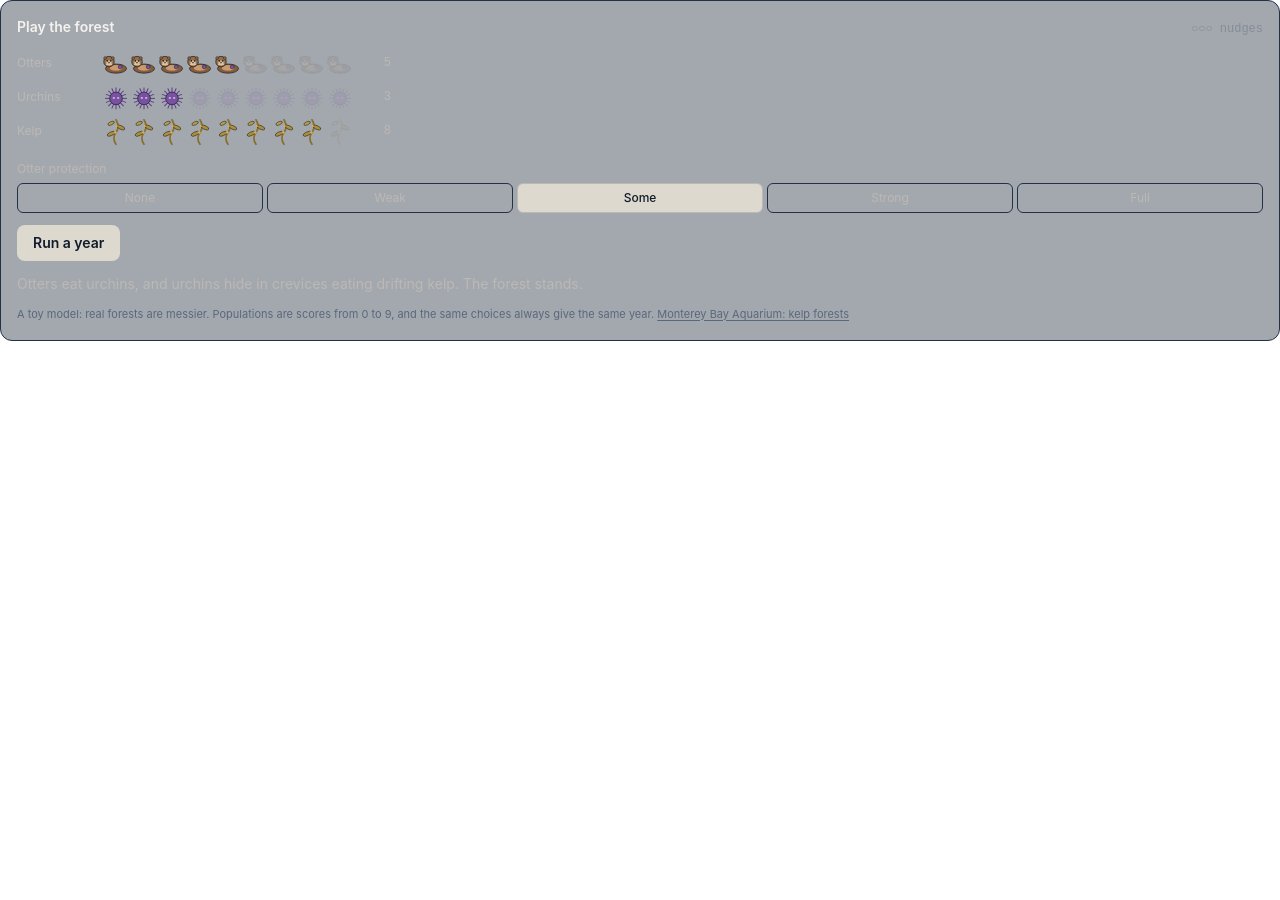
KelpPlay › says how to earn a nudge when there are none, and still runs an unchanged year
What coordinates should you click on to do the following:
click the radio button labelled "Full"
I would click on:
 (1140, 198)
Its box is left=1017, top=183, right=1263, bottom=213.
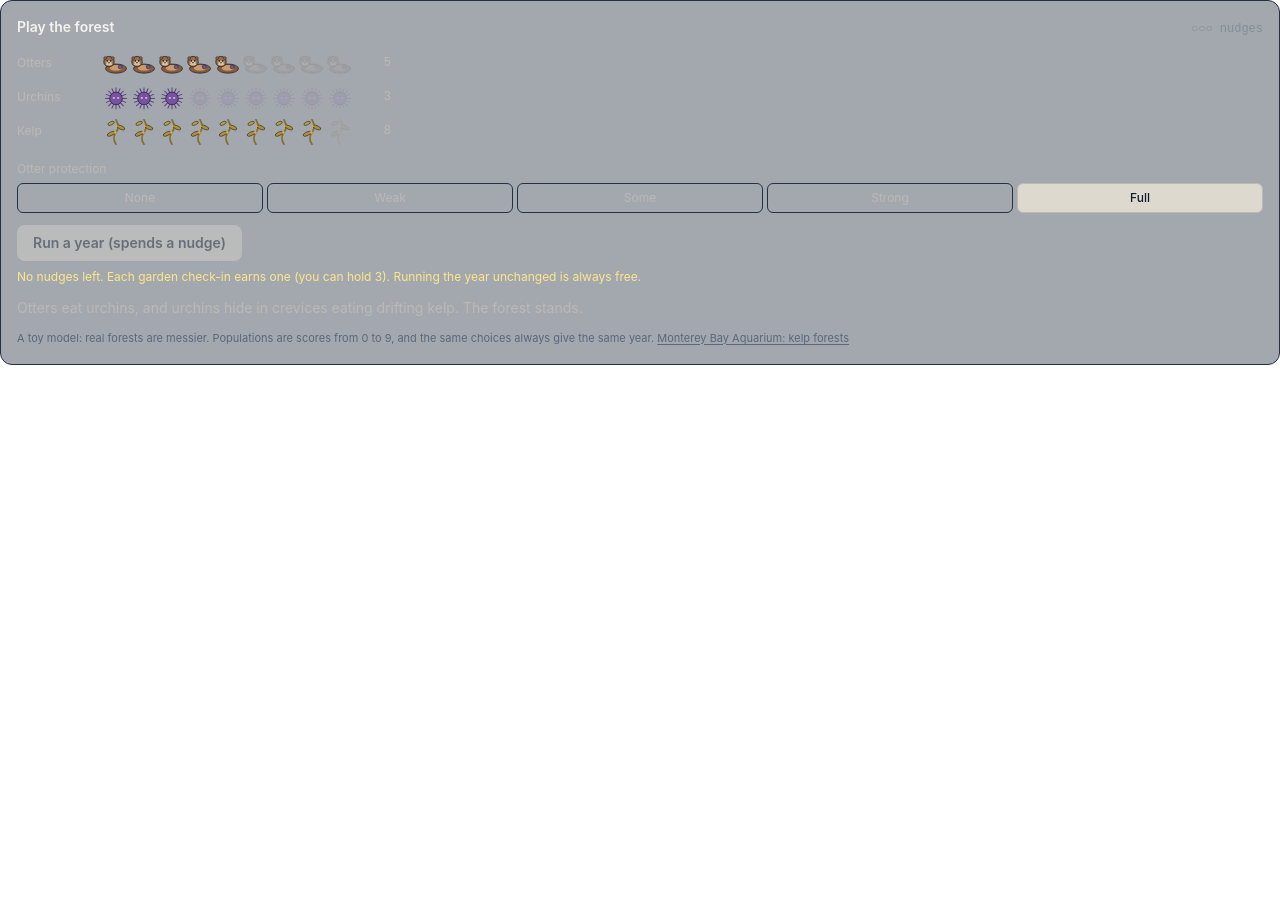
Now the text "No nudges left" is shown, box left=17, top=269, right=375, bottom=284
Now the button "Run a year (spends a nudge)" is disabled, box left=17, top=225, right=242, bottom=261
What coordinates should you click on to do the following:
click the radio button labelled "Some"
I would click on:
 (640, 198)
Its box is left=517, top=183, right=763, bottom=213.
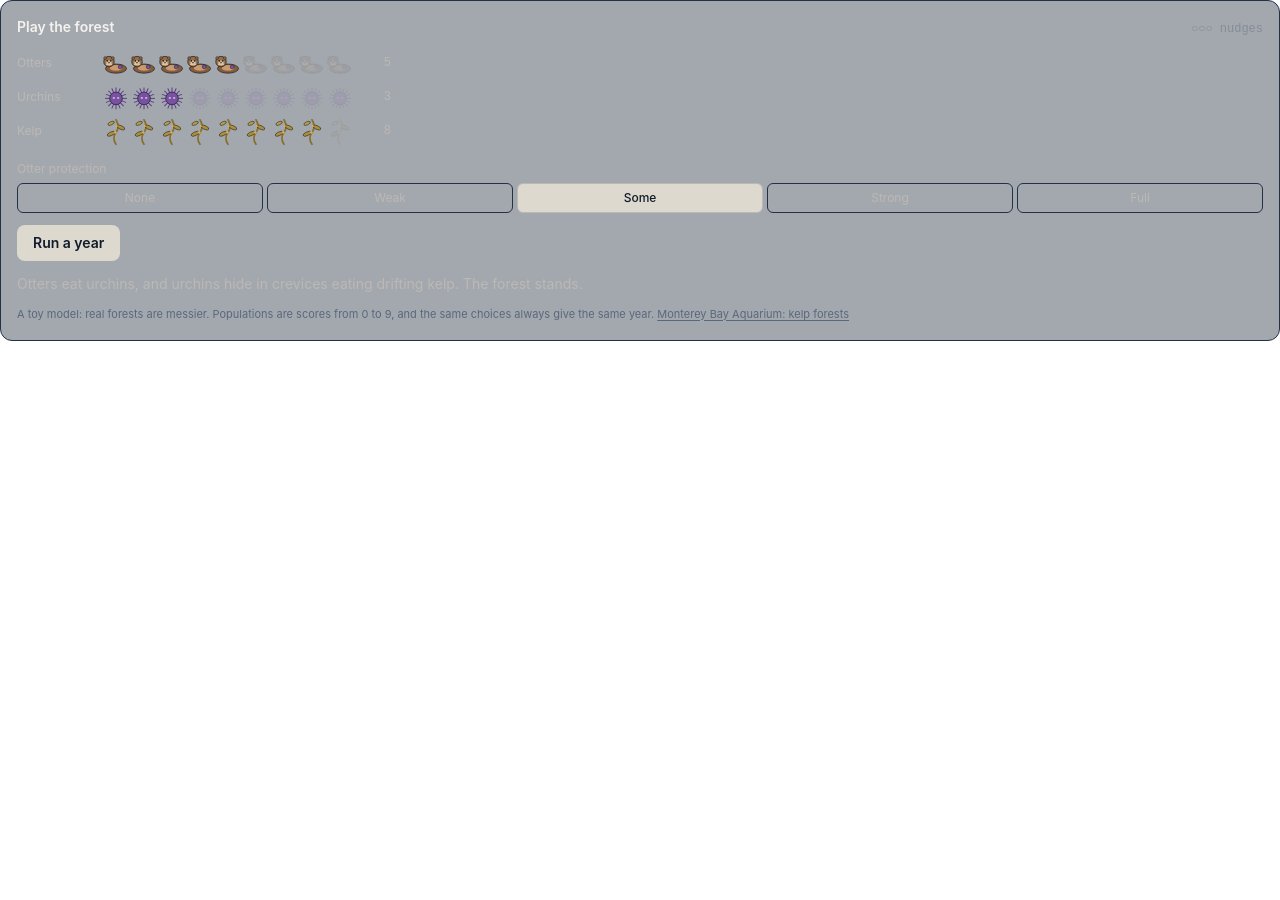
What coordinates should you click on to do the following:
click the button "Run a year"
I would click on:
 (69, 243)
Its box is left=17, top=225, right=120, bottom=261.
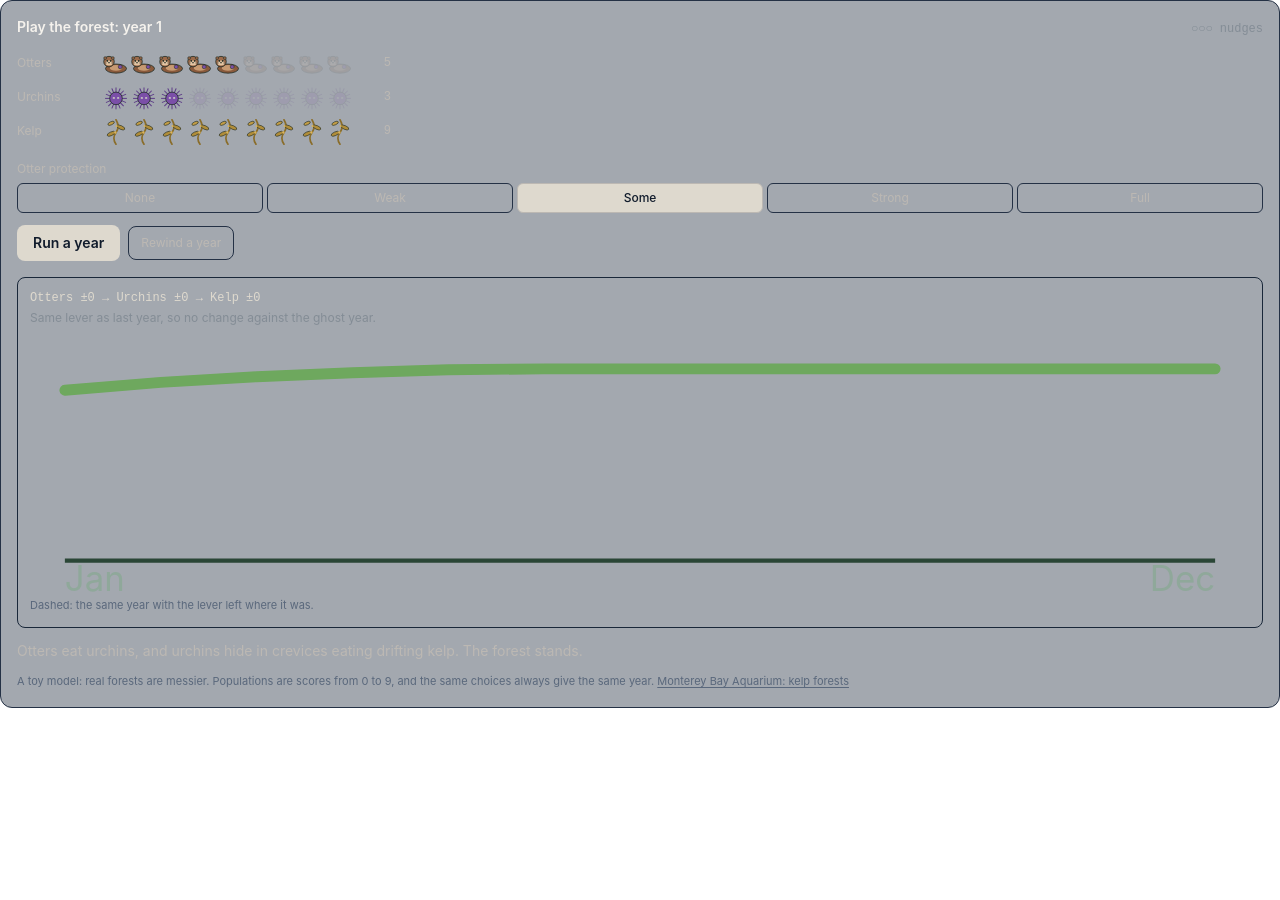
Now the text "Same lever as last year" is shown, box left=30, top=310, right=376, bottom=325
